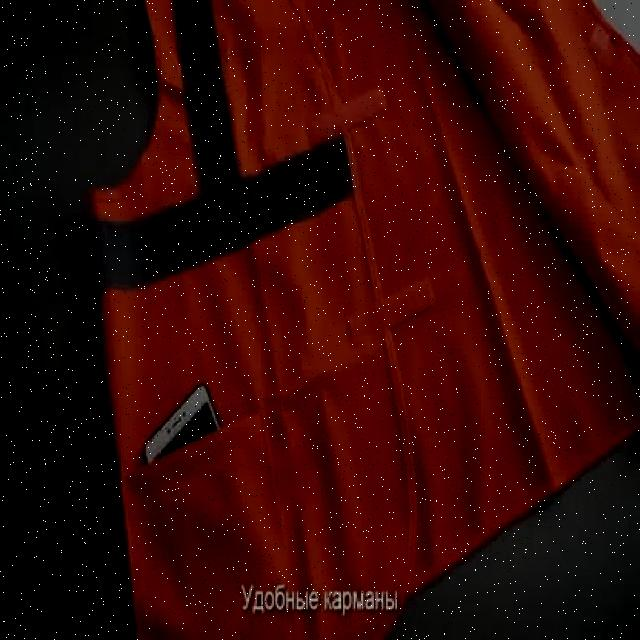Mask: (87, 0, 638, 638)
